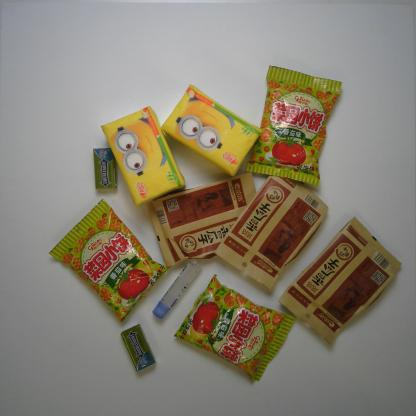Dried Food: (278, 216, 403, 346), (214, 175, 329, 290), (146, 172, 257, 268)
Gum: (120, 323, 156, 373), (93, 148, 117, 190)
Puffed Food: (48, 198, 171, 322), (174, 273, 296, 382), (246, 65, 343, 188)
Stationery: (152, 258, 202, 320)
Tissue: (160, 84, 262, 177), (100, 105, 186, 207)
